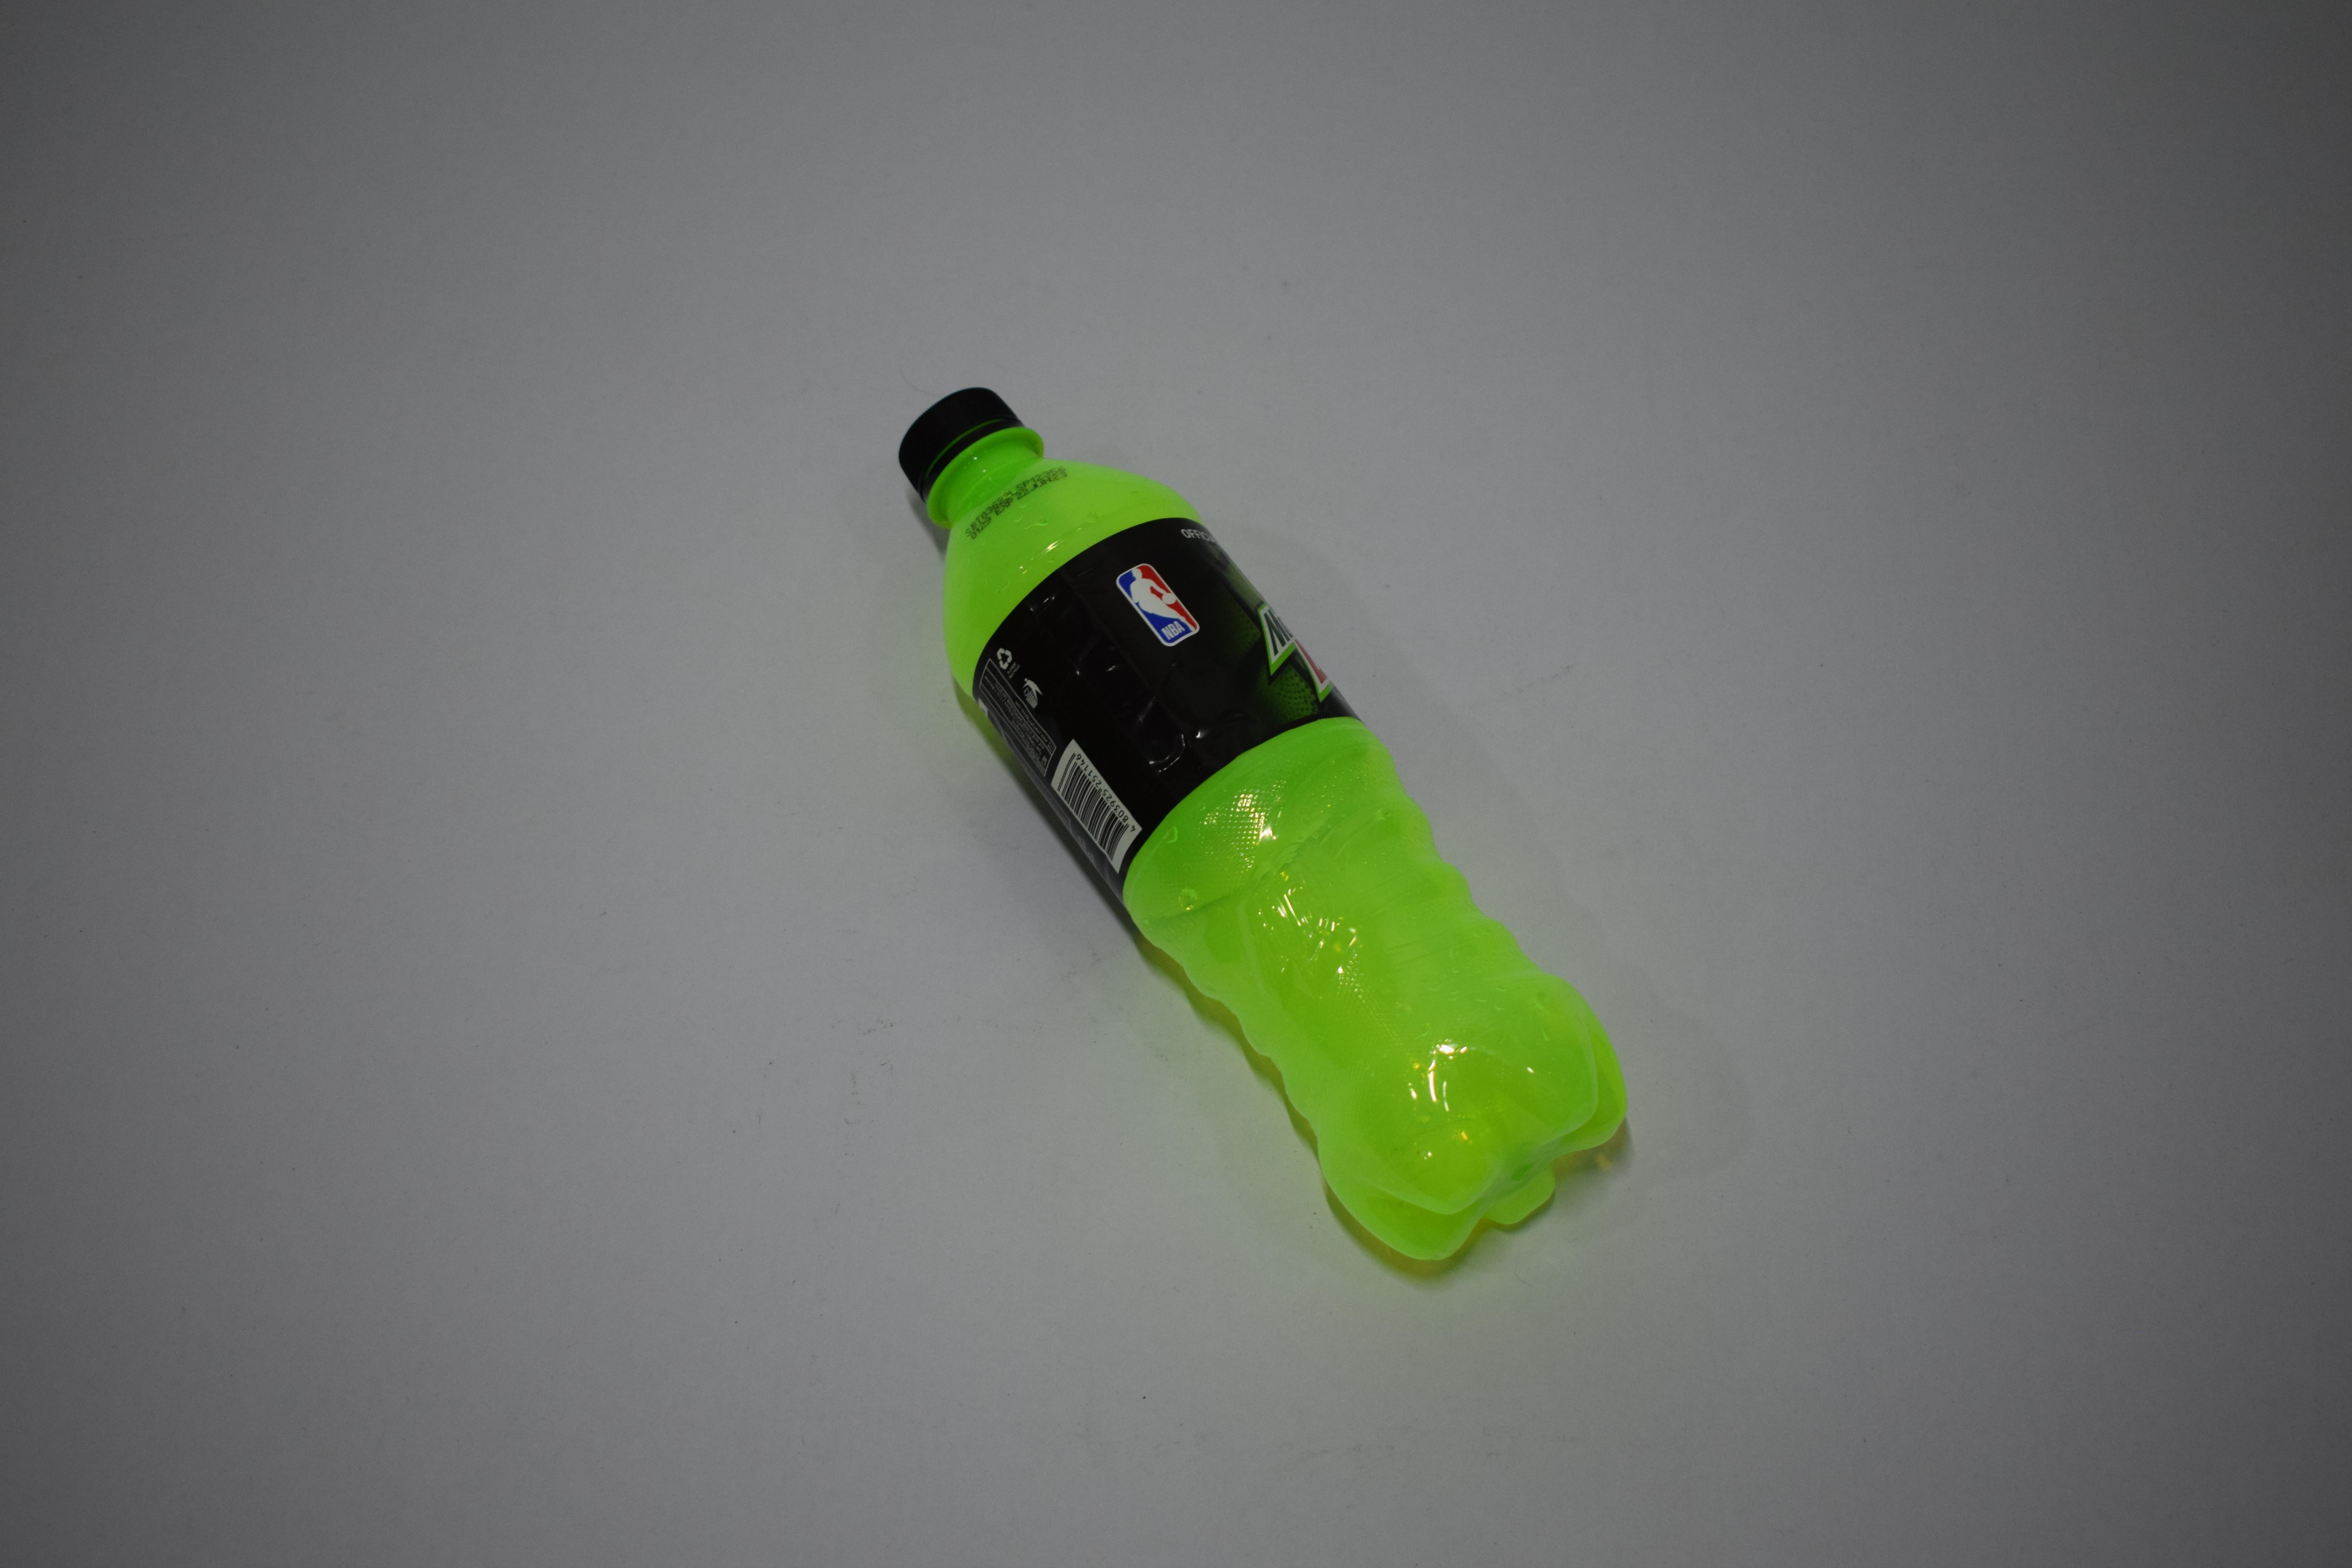bottle: (0, 0, 462, 105)
